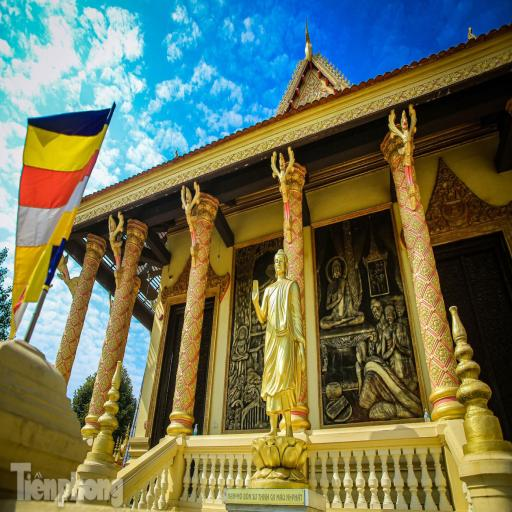hoa: (438, 370, 455, 392), (404, 83, 424, 101), (428, 312, 443, 336), (438, 71, 460, 87), (428, 360, 442, 385), (435, 343, 450, 365), (441, 328, 455, 351), (423, 286, 438, 306), (476, 58, 494, 74), (282, 129, 301, 144), (373, 97, 392, 111), (424, 332, 436, 354), (419, 303, 431, 324), (409, 252, 420, 274), (436, 299, 447, 321), (414, 238, 427, 256), (419, 260, 432, 278), (424, 249, 436, 268), (450, 358, 460, 380), (312, 120, 330, 132), (410, 216, 422, 234), (343, 108, 360, 120), (182, 367, 194, 384), (414, 277, 424, 297), (431, 274, 441, 294), (210, 158, 224, 172), (233, 148, 248, 161), (190, 302, 202, 318), (406, 230, 416, 249), (193, 282, 203, 299), (102, 356, 114, 370), (259, 142, 274, 153), (99, 376, 110, 391), (95, 396, 105, 412), (200, 230, 210, 246), (186, 344, 196, 360), (188, 168, 200, 181), (61, 345, 73, 358), (422, 227, 431, 244), (175, 378, 185, 393), (286, 248, 296, 263), (167, 176, 179, 188), (192, 356, 200, 374), (188, 381, 197, 397), (395, 171, 404, 187), (403, 209, 411, 227), (188, 325, 199, 338), (108, 337, 118, 351), (92, 386, 102, 400), (181, 392, 191, 406), (292, 202, 302, 216), (292, 239, 302, 253), (172, 401, 182, 414), (286, 269, 296, 282), (185, 312, 193, 328), (293, 220, 301, 236), (294, 258, 302, 274), (75, 296, 84, 310), (112, 319, 121, 333), (101, 345, 110, 359), (196, 314, 203, 332), (115, 303, 126, 314), (66, 330, 76, 342), (119, 285, 129, 297), (196, 264, 204, 279), (123, 268, 132, 281), (84, 266, 92, 280), (112, 348, 120, 362), (97, 365, 105, 379), (198, 247, 206, 261), (182, 334, 190, 348), (193, 336, 201, 350), (112, 198, 123, 208), (131, 191, 141, 202), (71, 313, 80, 325), (59, 336, 68, 348), (65, 358, 74, 370), (179, 357, 188, 369), (188, 292, 195, 307), (55, 353, 63, 366), (190, 274, 198, 287), (400, 190, 406, 207), (148, 184, 158, 194), (80, 280, 87, 294), (116, 330, 123, 344), (418, 206, 425, 220), (74, 325, 82, 337), (126, 254, 134, 266), (108, 366, 114, 382), (206, 240, 212, 256), (122, 248, 131, 258), (201, 277, 207, 292), (113, 292, 121, 303), (105, 328, 113, 339), (73, 288, 80, 300), (65, 320, 72, 332), (110, 309, 117, 321), (120, 312, 126, 326), (197, 222, 203, 236), (82, 212, 90, 222), (58, 364, 66, 374), (300, 383, 305, 399), (124, 296, 130, 309), (200, 296, 206, 309), (69, 304, 76, 315), (70, 341, 77, 352), (288, 194, 295, 205), (299, 280, 304, 295), (97, 207, 105, 216), (91, 264, 97, 276), (83, 293, 89, 305), (80, 308, 86, 320), (127, 278, 133, 290), (186, 405, 194, 414), (290, 210, 296, 222), (299, 254, 305, 266), (133, 252, 140, 262), (104, 388, 109, 402), (203, 259, 208, 273), (283, 241, 289, 252), (87, 258, 95, 266), (87, 279, 93, 289), (78, 274, 84, 284), (122, 260, 128, 270), (131, 266, 137, 276), (118, 276, 124, 286), (195, 238, 201, 248), (294, 190, 300, 200), (300, 274, 305, 286), (203, 220, 209, 229), (83, 260, 88, 270), (172, 394, 177, 404), (400, 208, 405, 218), (130, 246, 138, 252), (88, 406, 94, 414), (300, 216, 304, 228)
than: (252, 244, 306, 435), (323, 257, 365, 329), (389, 111, 423, 183), (272, 151, 298, 217), (181, 182, 206, 246), (106, 214, 129, 266), (232, 326, 250, 360)
